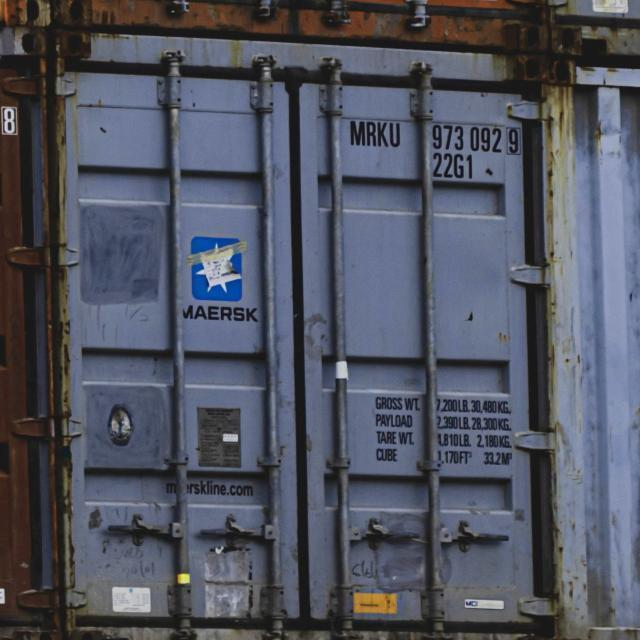ISO: (434, 154, 478, 183)
container_number: (348, 118, 526, 154)
